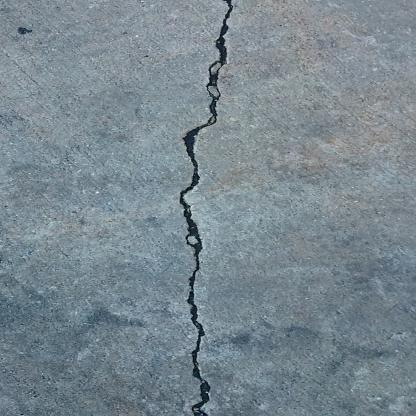Cracks: (110, 0, 294, 416)
